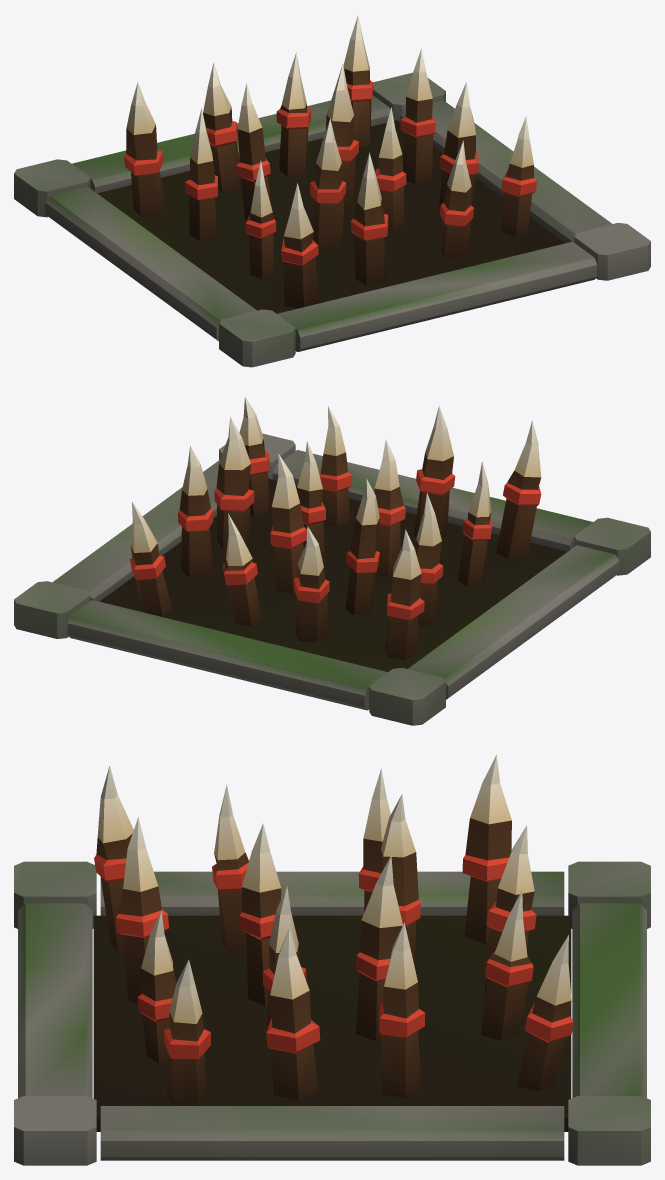
Rendered from spikes_jungle.glb.
3 views of the same model, one above another, from view 1: azimuth 30°, elevation 25°; view 2: azimuth 150°, elevation 25°; view 3: azimuth 270°, elevation 25° (orthographic). The views are drawn at different scales.
Visible parts, largest first — view 1: spikes_jungle; view 2: spikes_jungle; view 3: spikes_jungle.
Part boxes in pixels (<box>): spikes_jungle: <box>14,14,650,367</box>; spikes_jungle: <box>14,396,650,725</box>; spikes_jungle: <box>14,755,650,1165</box>.
Bounding box in the file's own units: 2 × 0.6849 × 2.
